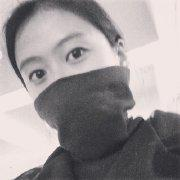OK: (20, 32, 124, 132)
